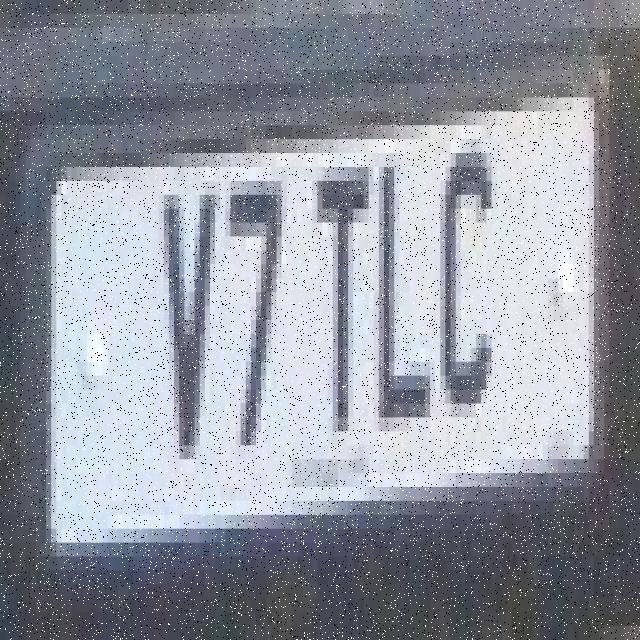licenseplate: (23, 51, 622, 604)
